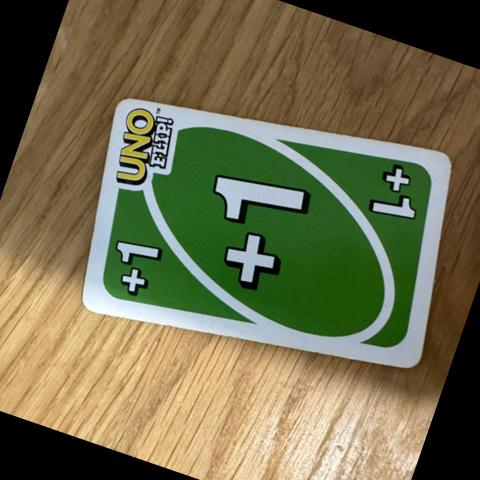7_yellow: (212, 174, 309, 224), (370, 195, 417, 225), (116, 238, 162, 264)
